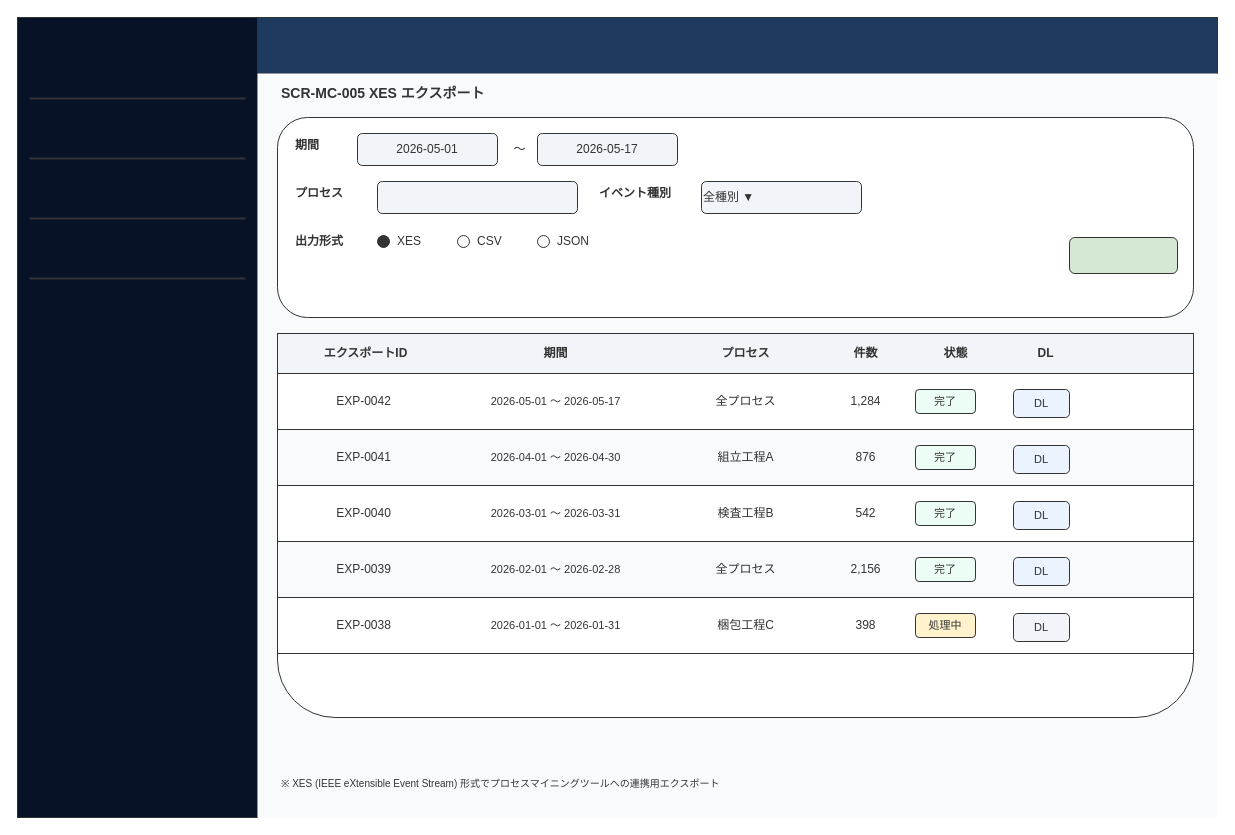
Image size: 1235x835. Some labels were removed from this diagram. Here are the shapes that lost their labels. From the top down, the box of each, then its label:
(376, 180, 578, 214): 全プロセス ▼
(1068, 236, 1178, 274): XES 生成
